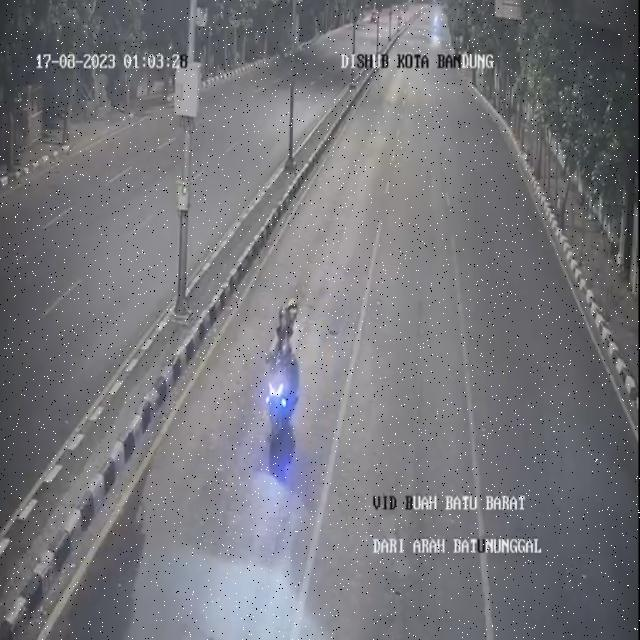motorcycle: (257, 296, 312, 461)
